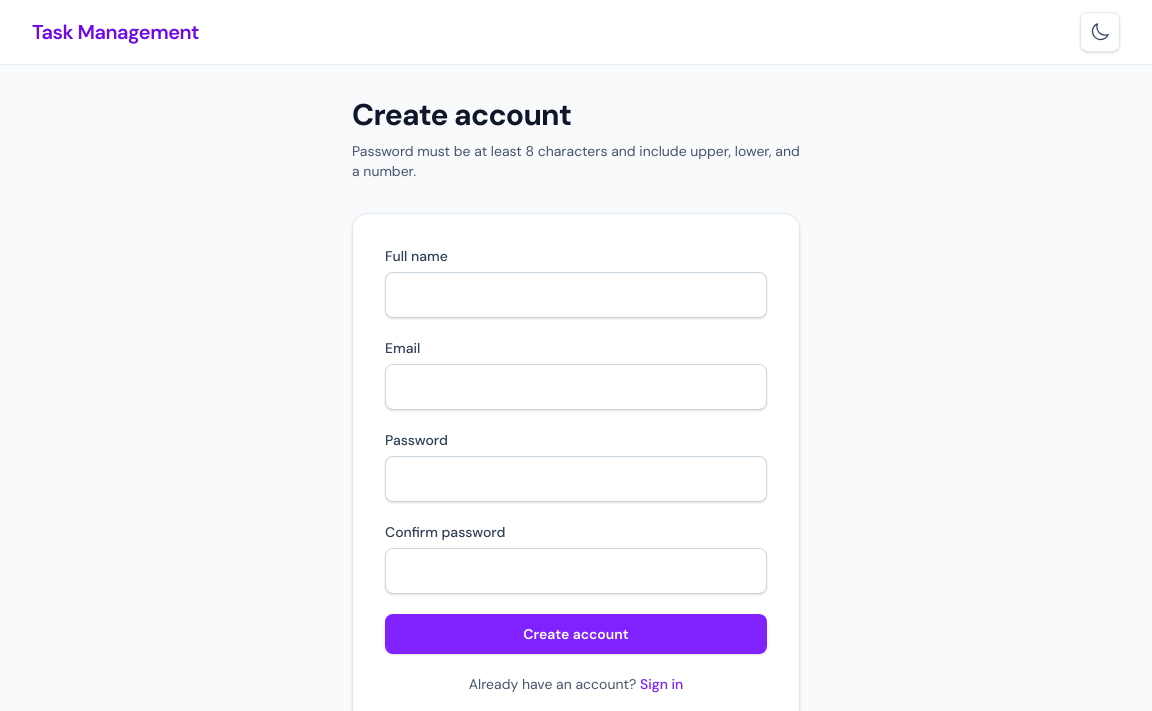
Test case: RegisterPage › shows validation errors for empty submit
Step 1. Click the button with test id "register-submit" → {"x": 576, "y": 634}, box left=385, top=614, right=767, bottom=654
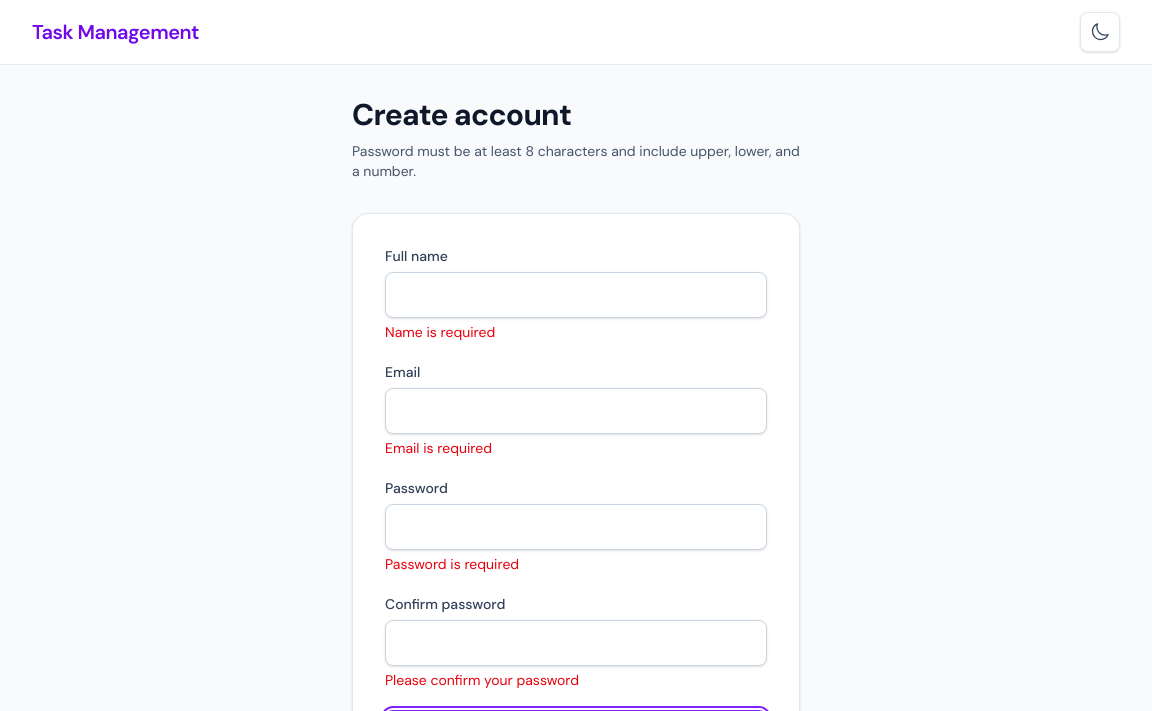
Expected: the text "Name is required" is shown, left=385, top=323, right=495, bottom=341
Expected: the text "Email is required" is shown, left=385, top=439, right=492, bottom=457
